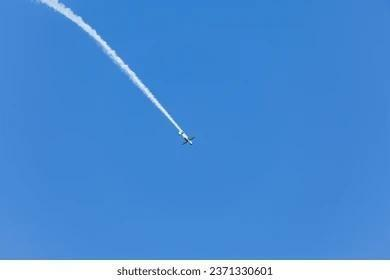Plane: (91, 28, 205, 148)
